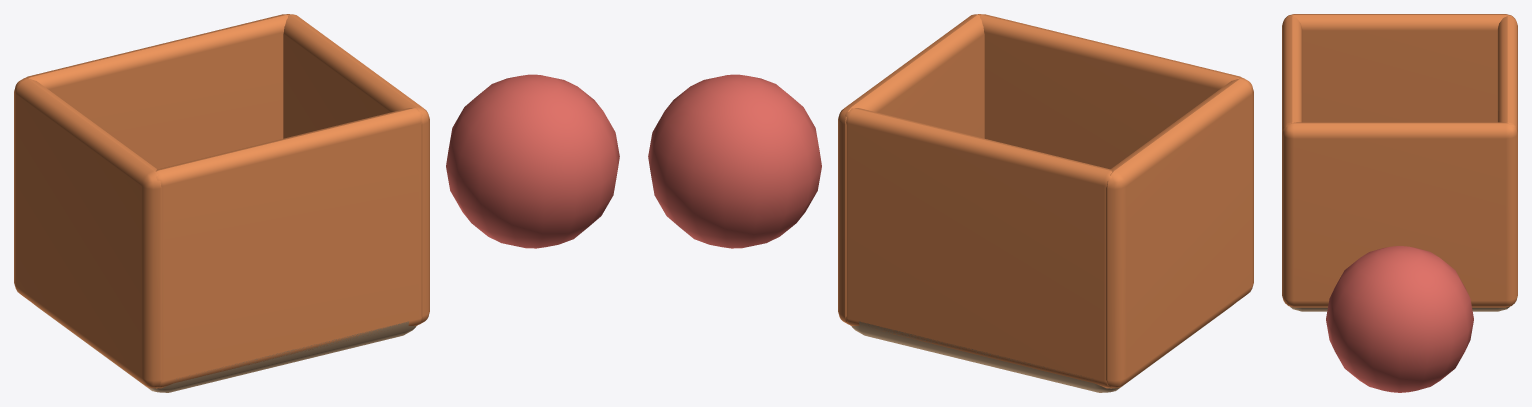
Rendered from ava-position-beside.glb.
3 views of the same model, side by side, from view 1: azimuth 30°, elevation 25°; view 2: azimuth 150°, elevation 25°; view 3: azimuth 270°, elevation 25° (orthographic). The views are drawn at different scales.
Visible parts, largest first — view 1: box side.006, box side.004, box side.007, location ball, box side.005, box floor.001; view 2: box side.007, box side.004, box side.006, location ball, box side.005, box floor.001; view 3: box side.005, box side.004, location ball, box side.006, box side.007, box floor.001.
Part boxes in pixels (x1,y1,x2,y2): box side.006: (156, 108, 422, 388); box side.004: (14, 78, 161, 388); box side.007: (25, 14, 288, 169); location ball: (446, 74, 619, 248); box side.005: (283, 14, 429, 323); box floor.001: (34, 304, 416, 392); box side.007: (845, 108, 1111, 388); box side.004: (1106, 78, 1253, 388); box side.006: (979, 14, 1242, 169); location ball: (648, 74, 821, 248); box side.005: (838, 14, 984, 323); box floor.001: (851, 304, 1233, 392); box side.005: (1282, 122, 1517, 307); box side.004: (1284, 14, 1515, 122); location ball: (1326, 246, 1473, 392); box side.006: (1282, 16, 1302, 133); box side.007: (1497, 16, 1517, 133); box floor.001: (1290, 306, 1509, 311).
Bounding box in the file's own units: 1.53 × 0.63 × 0.7.
